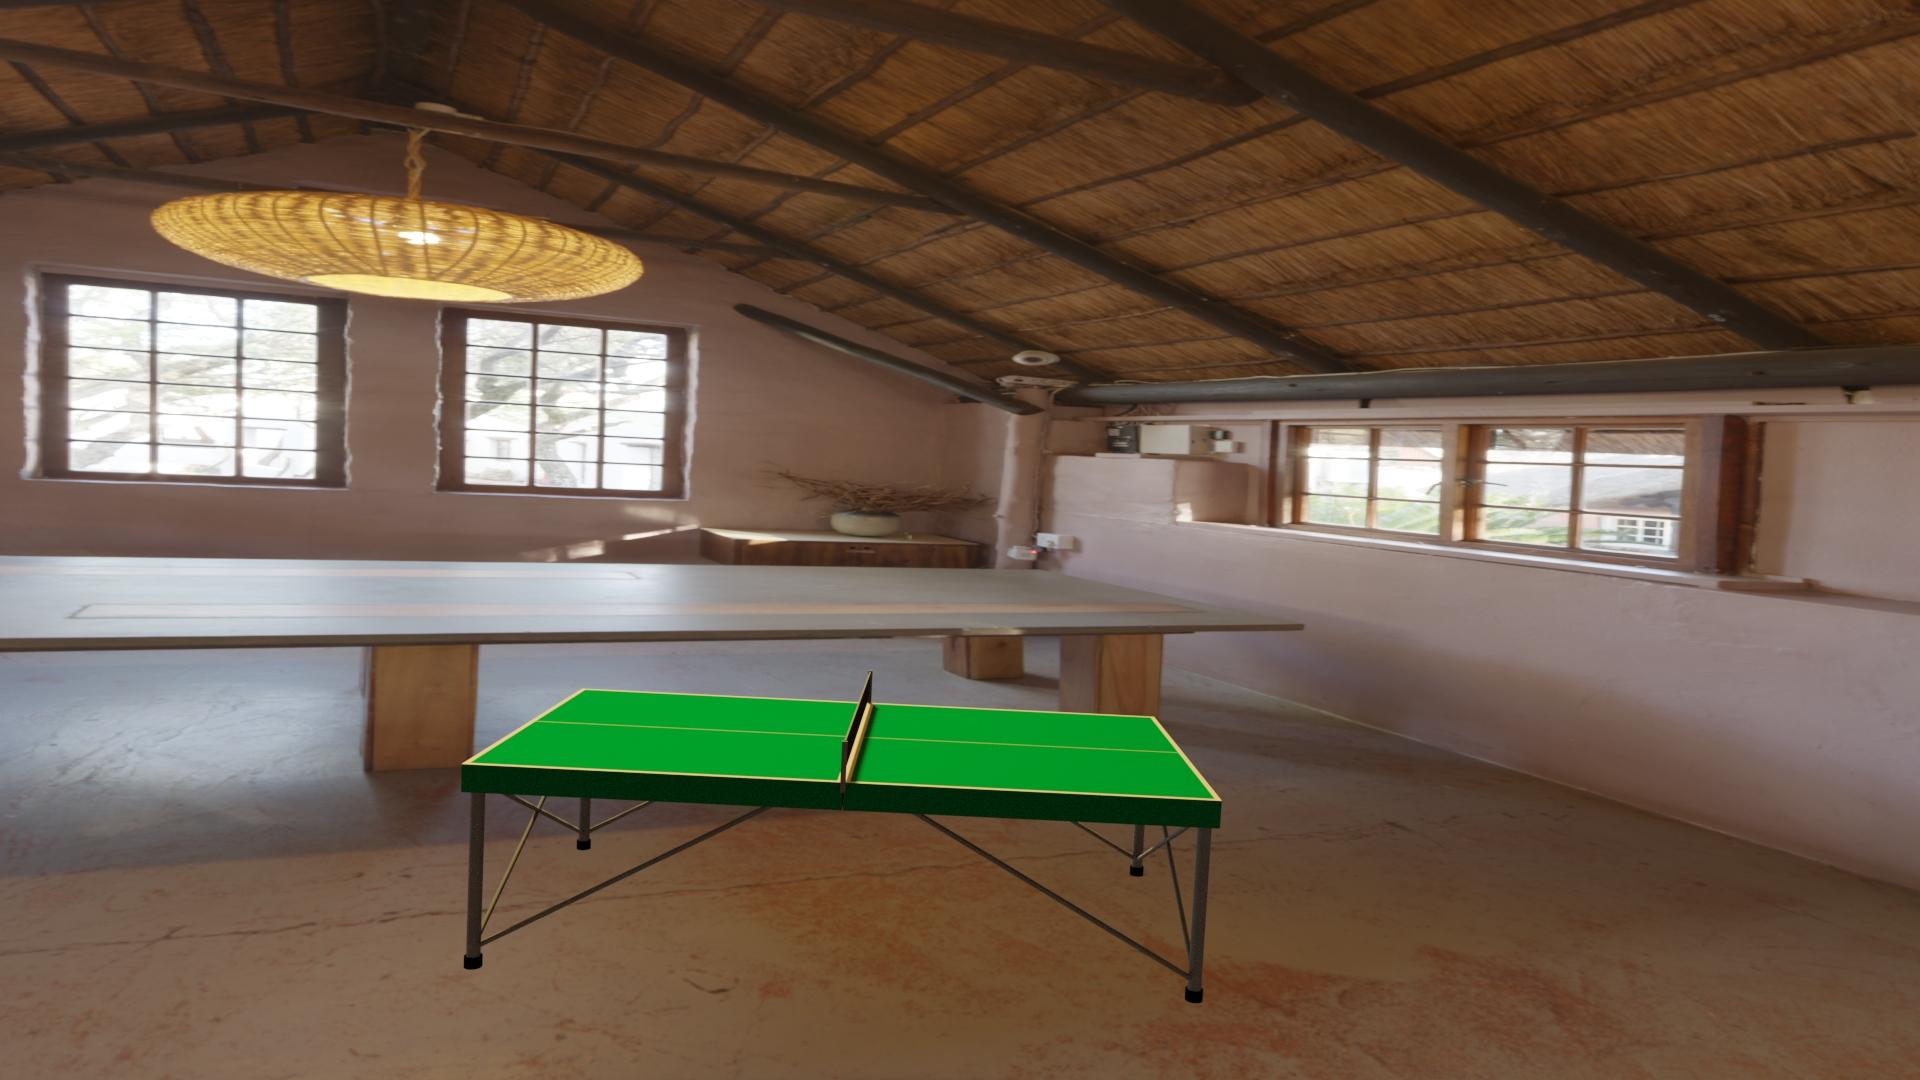table: (469, 690, 1216, 799)
